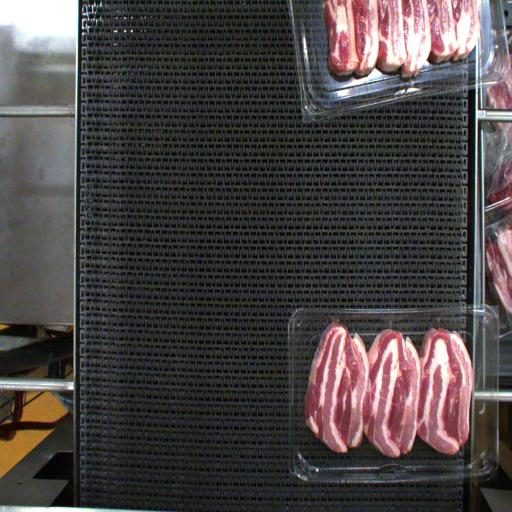packaging-error: (328, 312, 340, 325), (384, 317, 394, 332)
